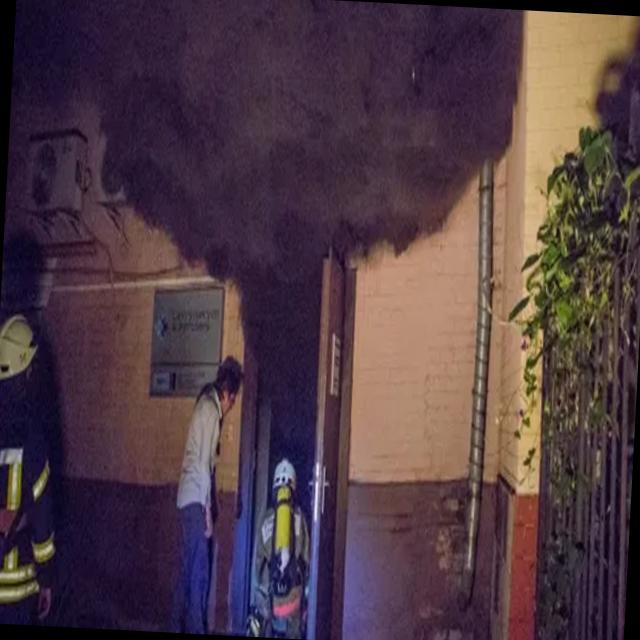Smoke: (58, 0, 524, 276)
